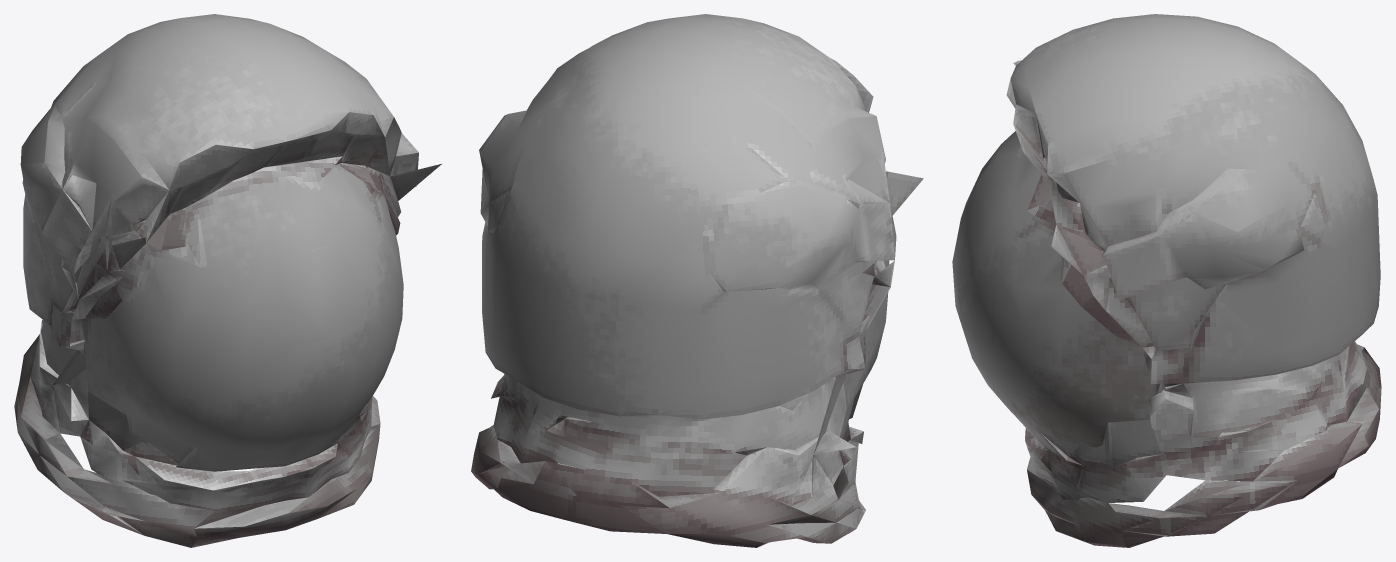
Rendered from wear_astro2.glb.
3 renders of one model, left to right at view 1: azimuth 30°, elevation 25°; view 2: azimuth 150°, elevation 25°; view 3: azimuth 270°, elevation 25°, orthographic. The views are drawn at different scales.
Parts seen in each view (by area): view 1: mesh; view 2: mesh; view 3: mesh.
Boxes of the visible parts, box(x1,y1,x2,y2) form: mesh: box(14, 14, 441, 547); mesh: box(471, 14, 923, 547); mesh: box(952, 14, 1381, 547).
Bounding box in the file's own units: 0.2526 × 0.32 × 0.2661.
Materials: 1 (1 with a texture image).
